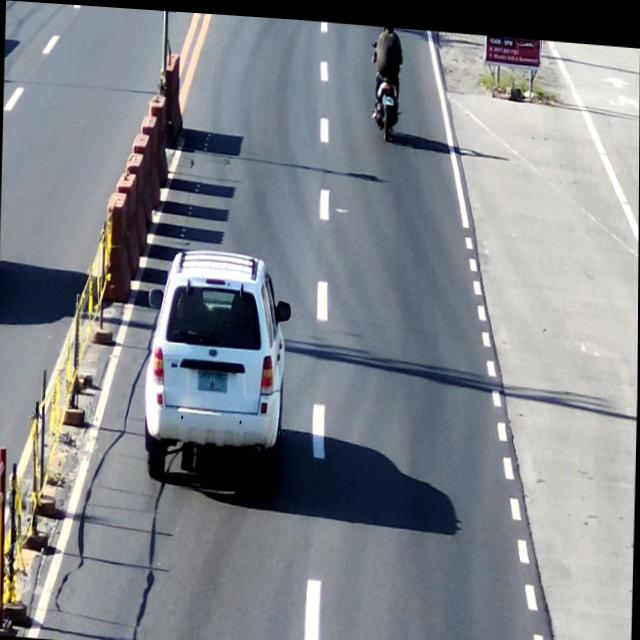Car: (145, 244, 289, 479), (372, 21, 405, 137)
License-Plate: (197, 361, 229, 401)
